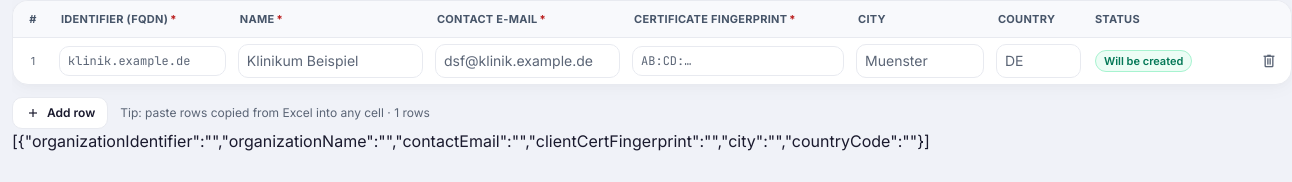
Test: OnboardingEditor › marks an invalid cell after blur and describes the problem
Type "klinik" into the field with test id "cell-0-organizationIdentifier".
click(142, 61); type("klinik")  # box [59,46,226,76]
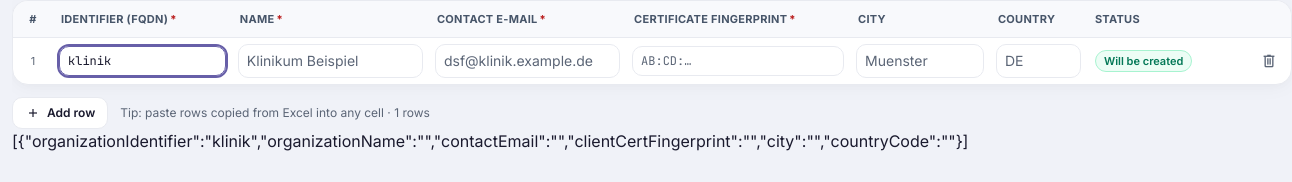
Press Tab
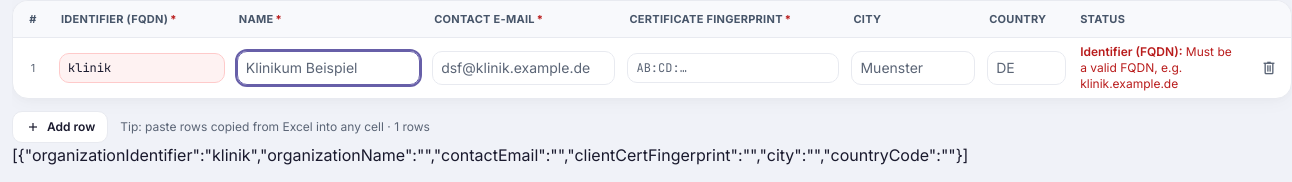
Expected: the element with test id "row-error-0" shows "Must be a valid FQDN", [1080,44,1232,91]
